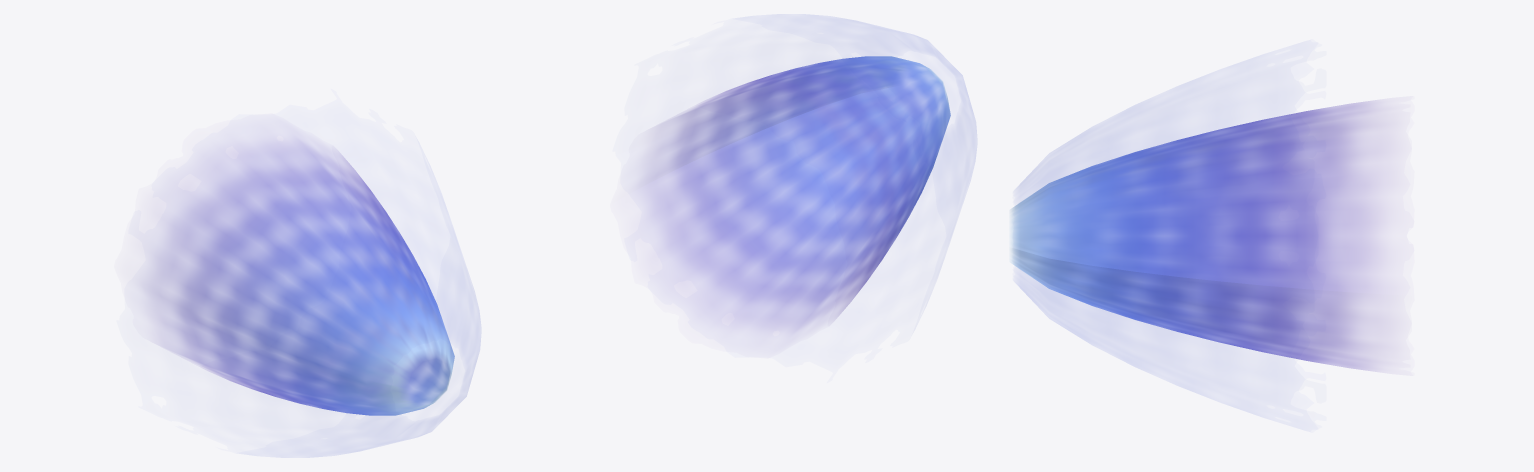
The model's file is vacuum.glb.
The picture shows the model from 3 angles, left to right: view 1: azimuth 30°, elevation 25°; view 2: azimuth 150°, elevation 25°; view 3: azimuth 270°, elevation 25°; orthographic projection. The views are drawn at different scales.
Visible parts, largest first — view 1: vacuum | static fallback; view 2: vacuum | static fallback; view 3: vacuum | static fallback.
Boxes of the visible parts, box(x1,y1,x2,y2) form: vacuum | static fallback: box(141, 135, 480, 444); vacuum | static fallback: box(637, 27, 976, 336); vacuum | static fallback: box(1009, 100, 1386, 371).
Bounding box in the file's own units: 2.35 × 2.24 × 2.7.
Materials: 1 (1 with a texture image).
